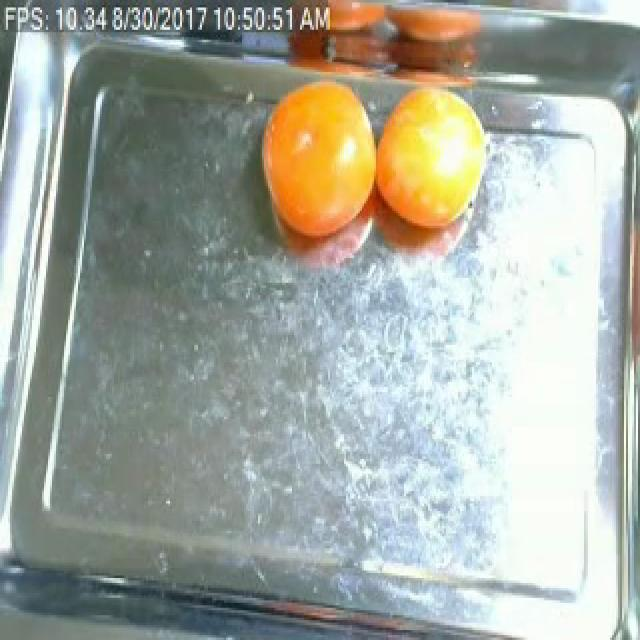Fruit: (244, 64, 386, 260), (362, 72, 504, 253)
